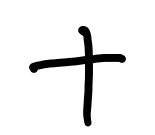plus: (28, 27, 125, 128)
